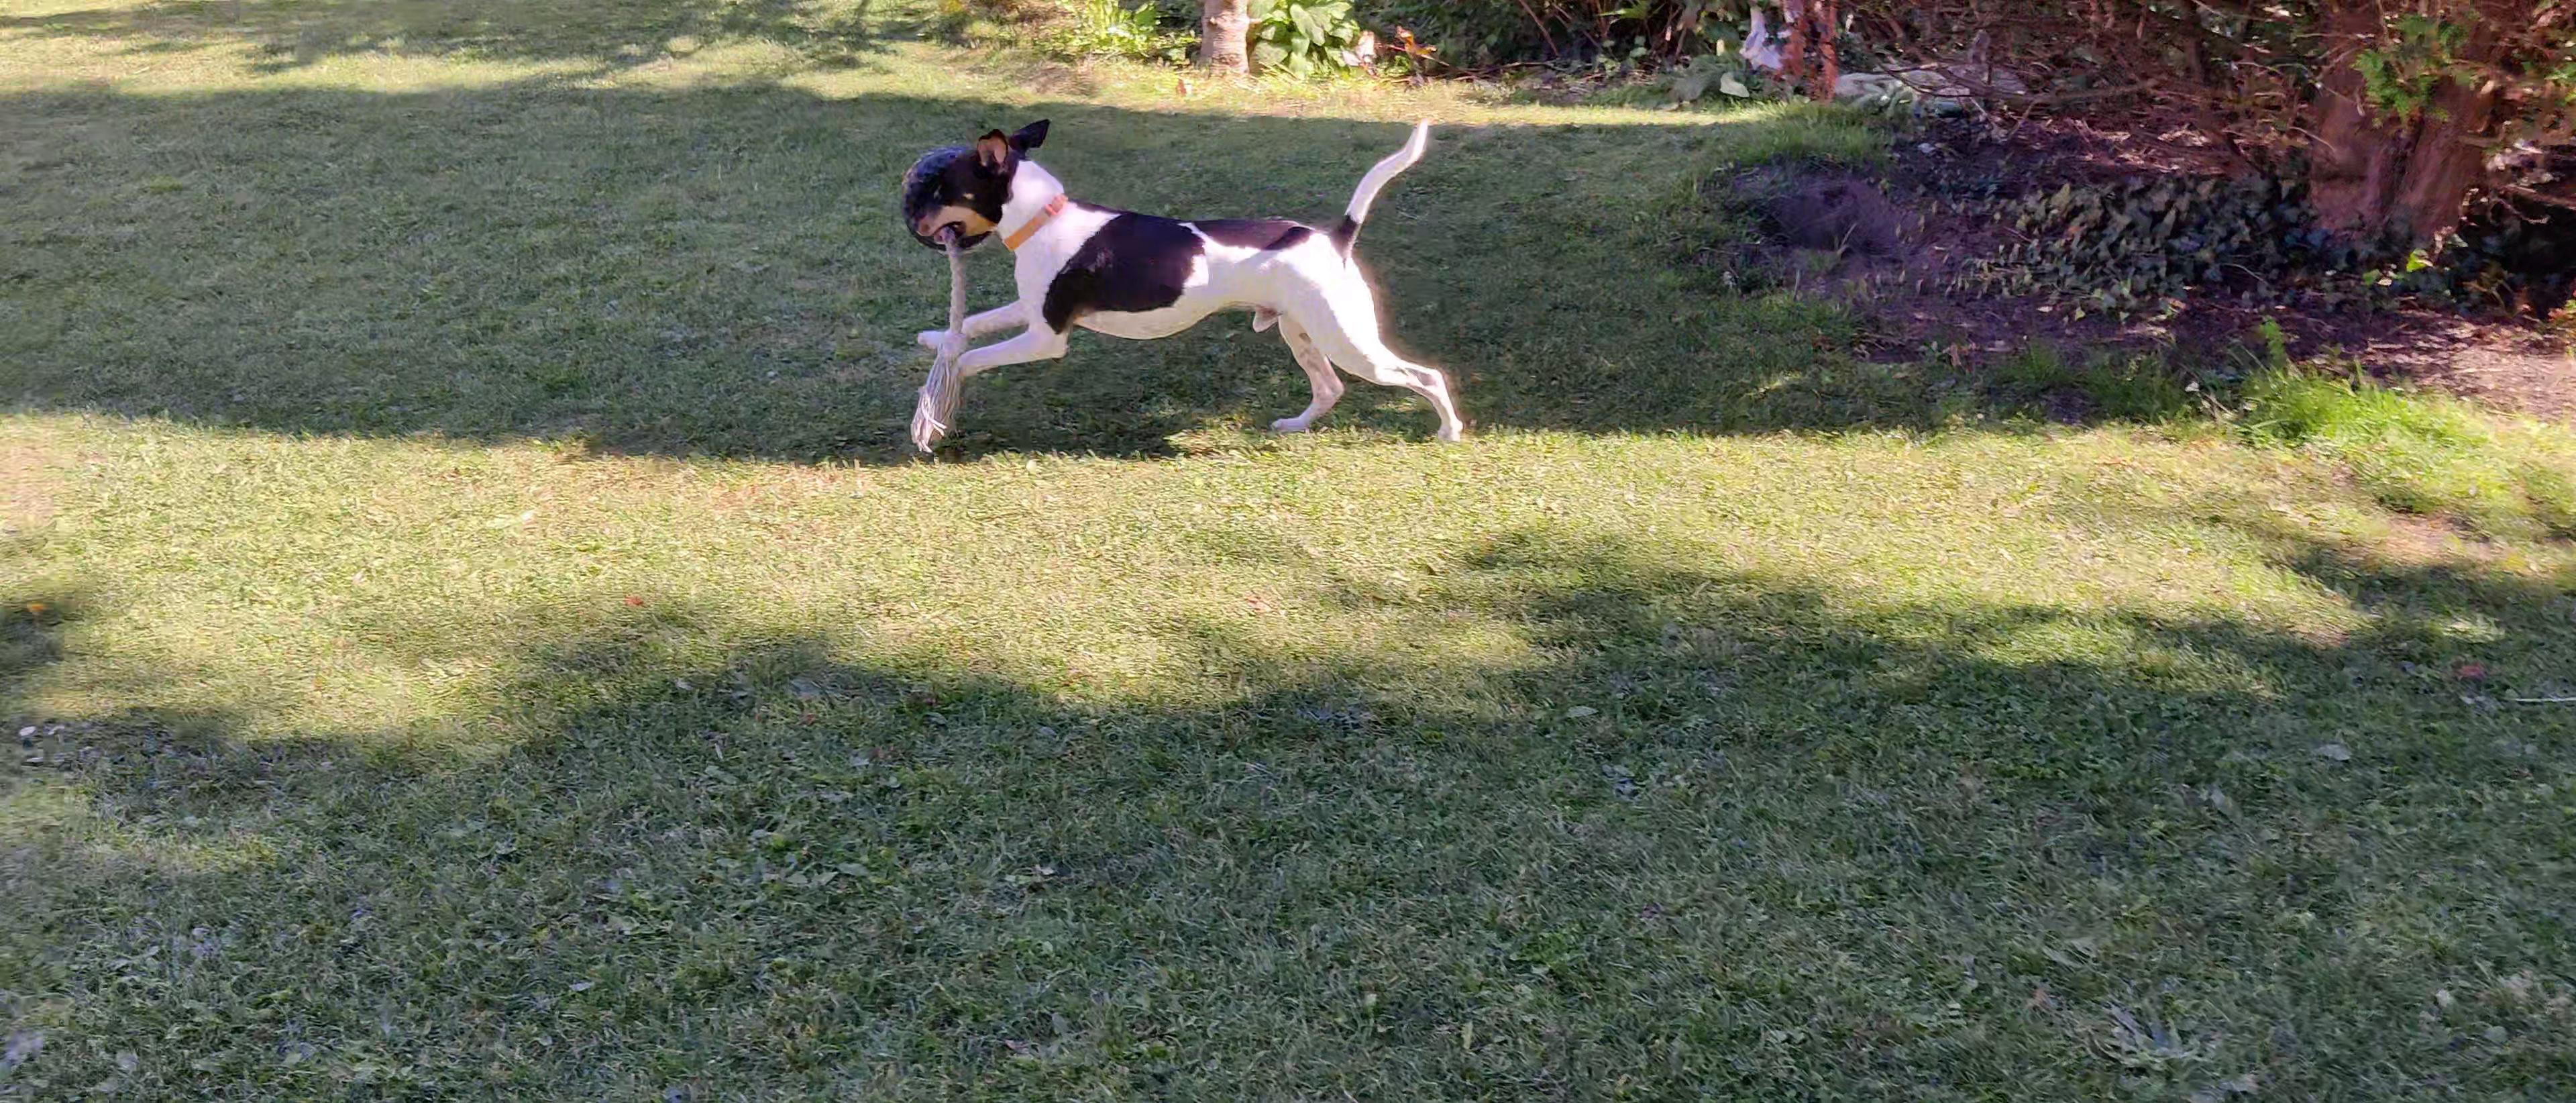Dog: (912, 113, 1475, 449)
